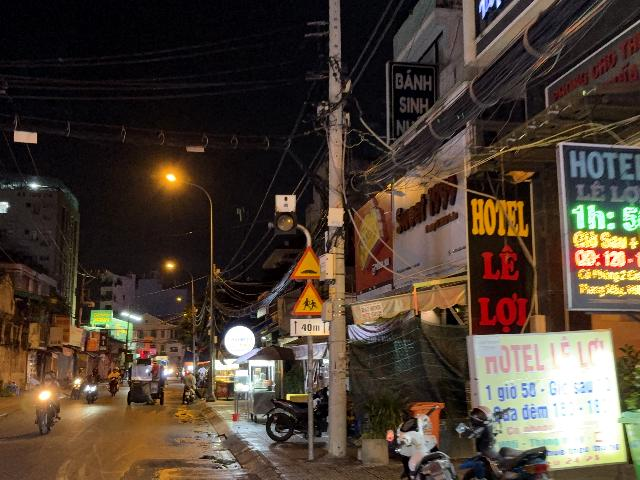duong-co-go-giam-toc: (290, 246, 321, 279)
tre-em-qua-duong: (292, 281, 323, 316)
